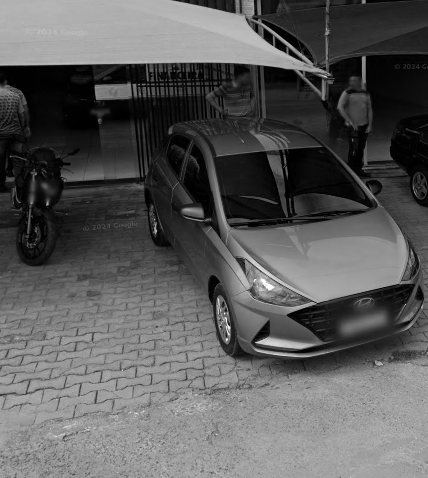car: (140, 104, 428, 372)
